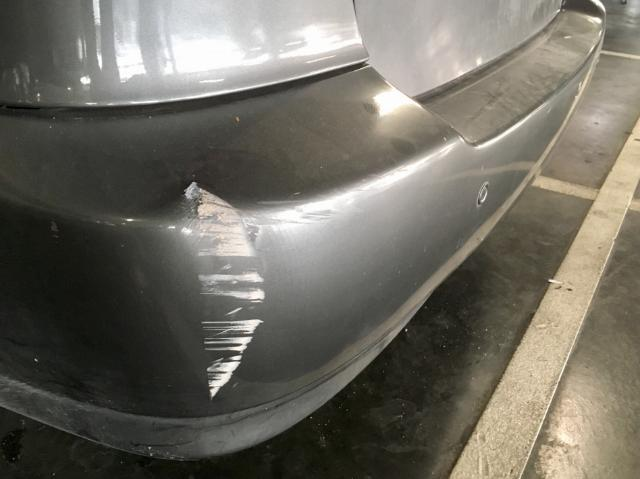Bumper: (162, 172, 312, 417)
